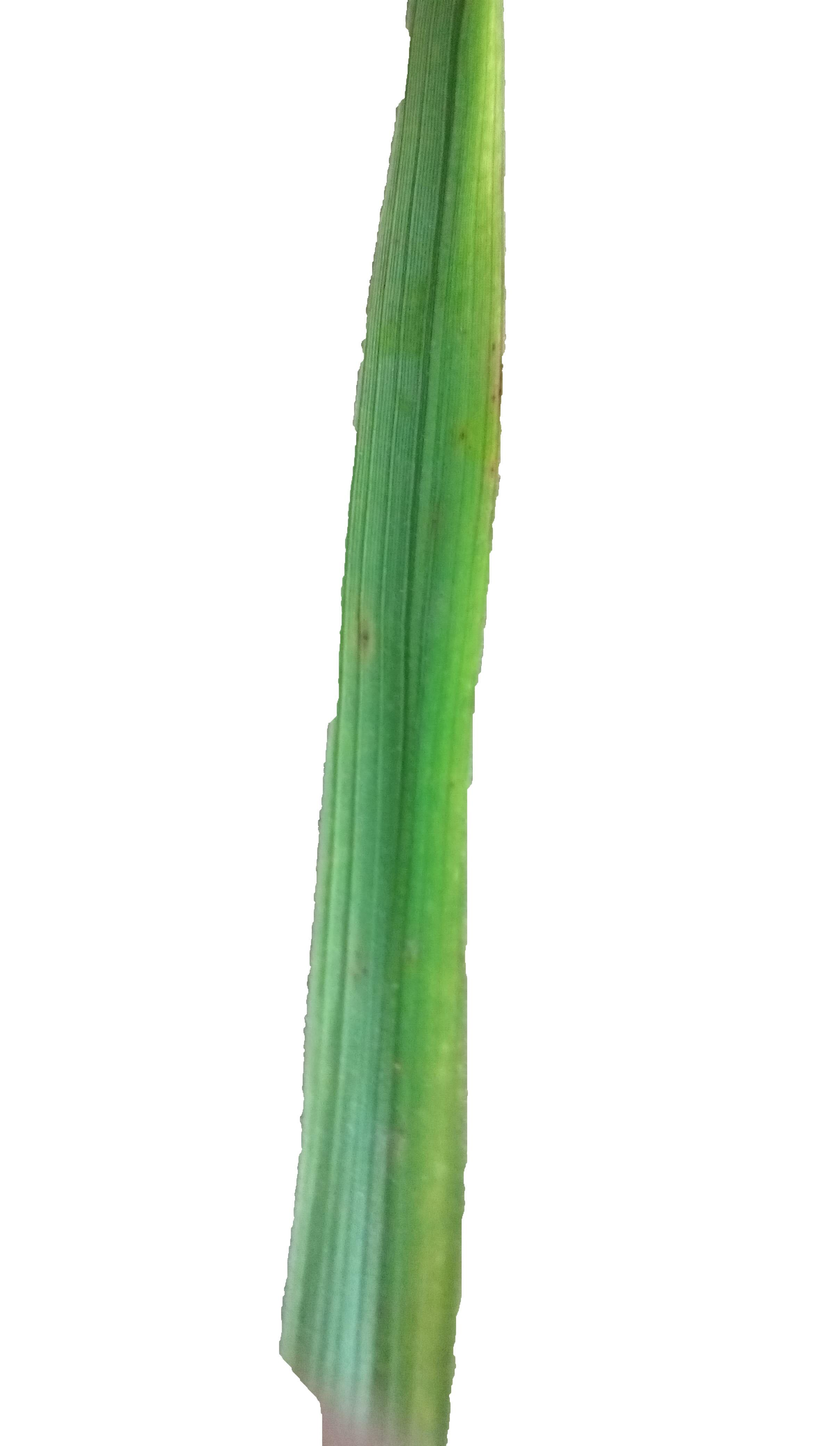Tungro: (372, 886, 455, 1446), (441, 0, 500, 626)
